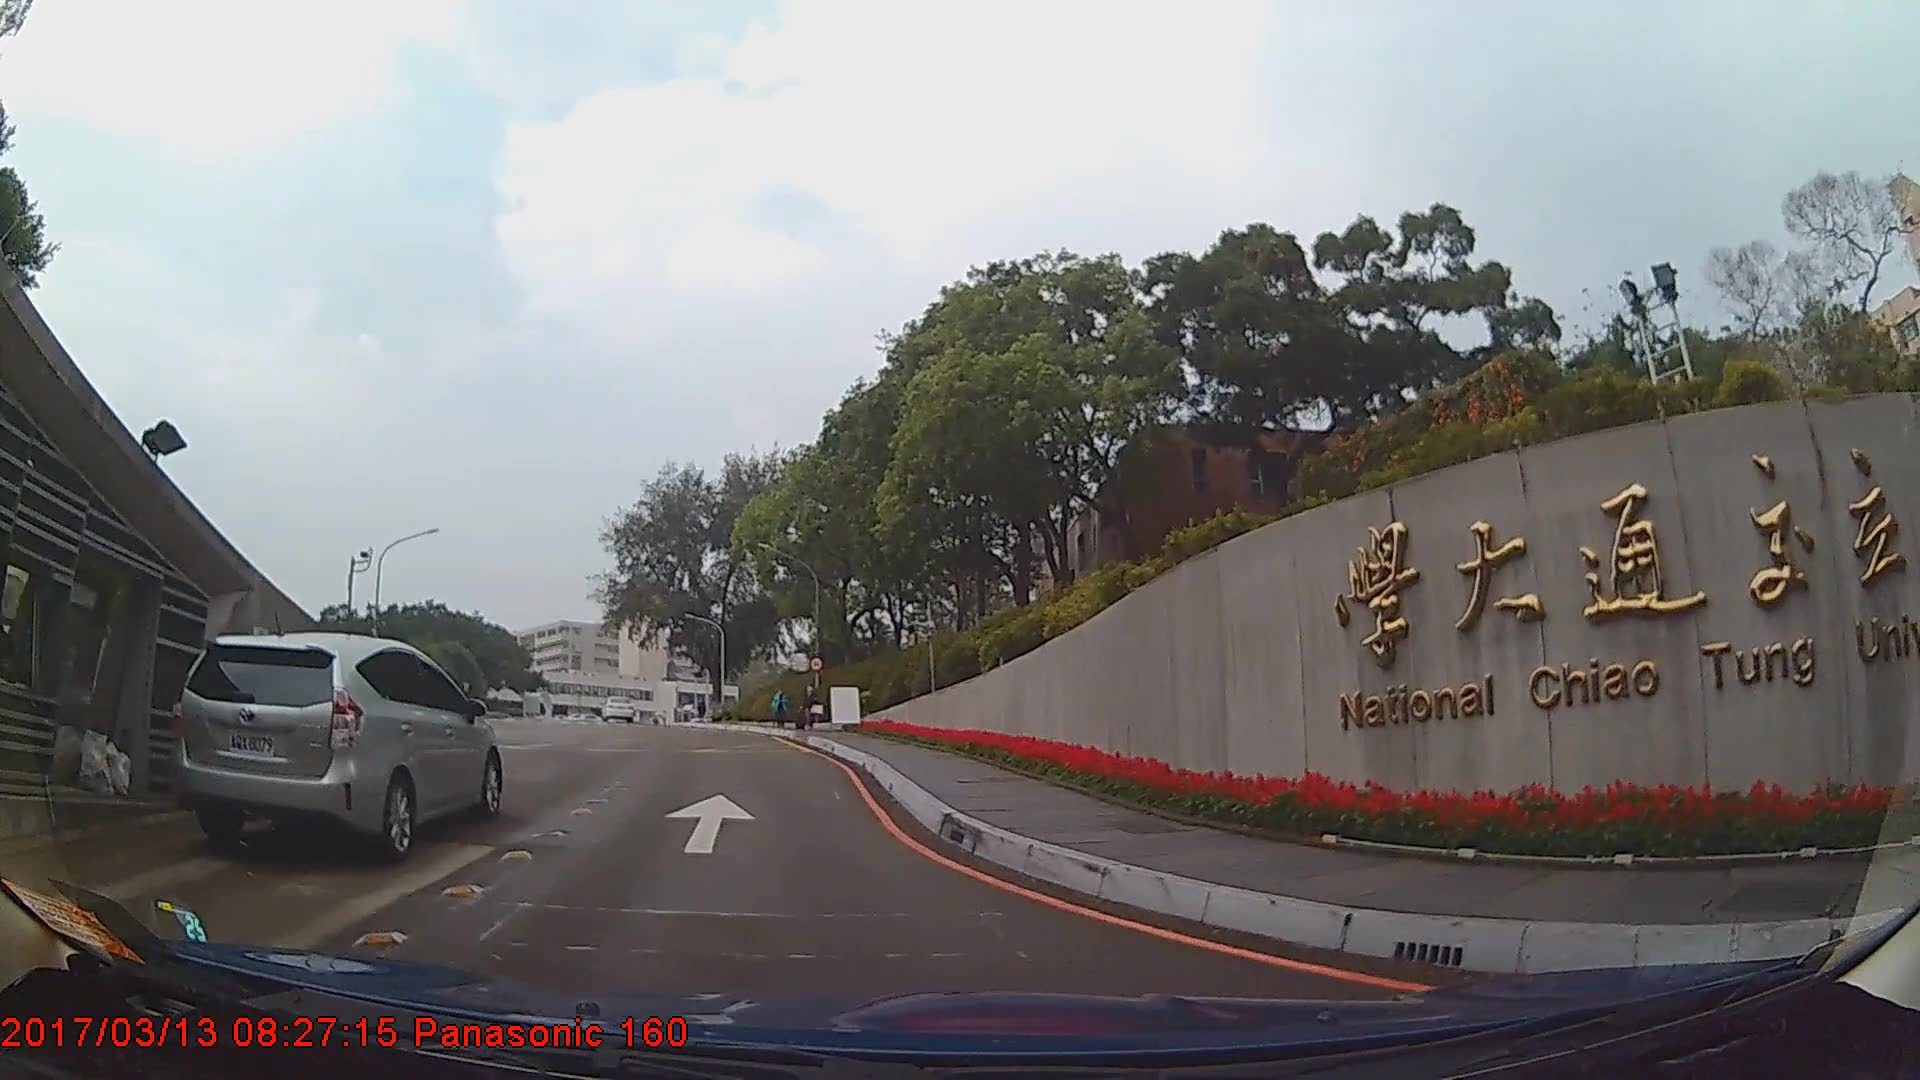pedestrian: (796, 682, 825, 731), (773, 689, 793, 733)
vehicle: (169, 635, 502, 865), (597, 693, 634, 723)
